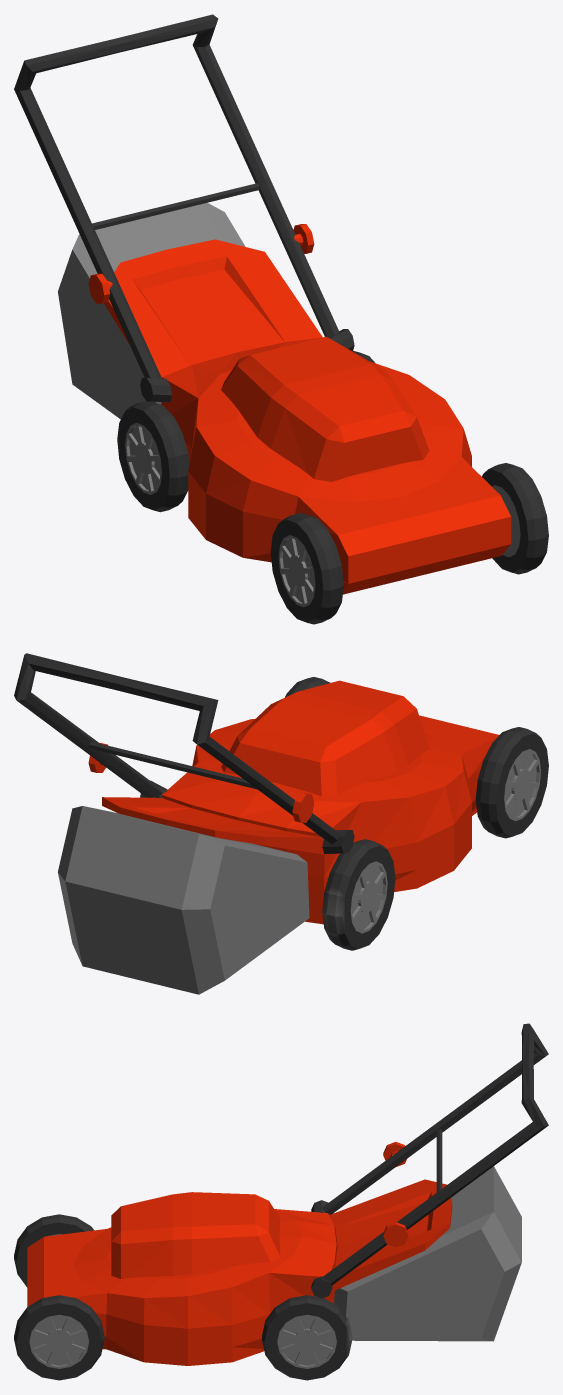
The model's file is 1pdSPagFCub.glb.
The picture shows the model from 3 angles, top to bottom: view 1: azimuth 30°, elevation 25°; view 2: azimuth 150°, elevation 25°; view 3: azimuth 270°, elevation 25°; orthographic projection. The views are drawn at different scales.
Parts seen in each view (by area): view 1: Lawn_Mower; view 2: Lawn_Mower; view 3: Lawn_Mower.
Boxes of the visible parts, x1,y1,x2,y2 form: Lawn_Mower: (14,14,548,624); Lawn_Mower: (14,653,548,994); Lawn_Mower: (14,1023,548,1380).
Size of the model in its own units: 0.7538 by 1 by 1.74.
1 material, 1 textured.
